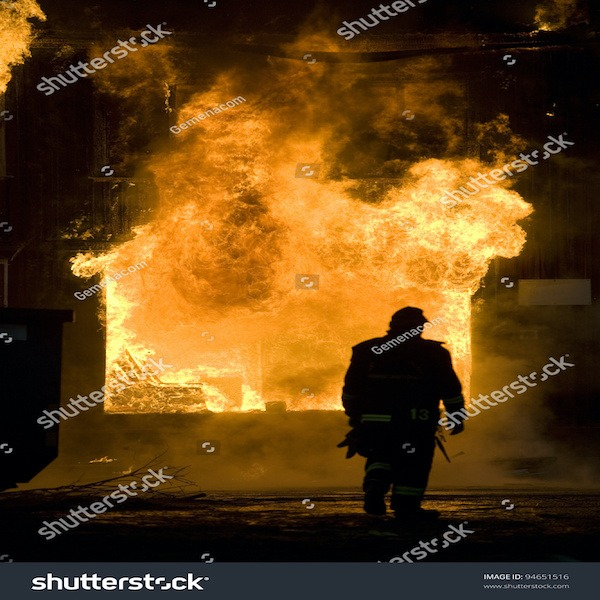fire: (110, 199, 474, 305), (112, 312, 340, 421), (160, 132, 367, 198)
